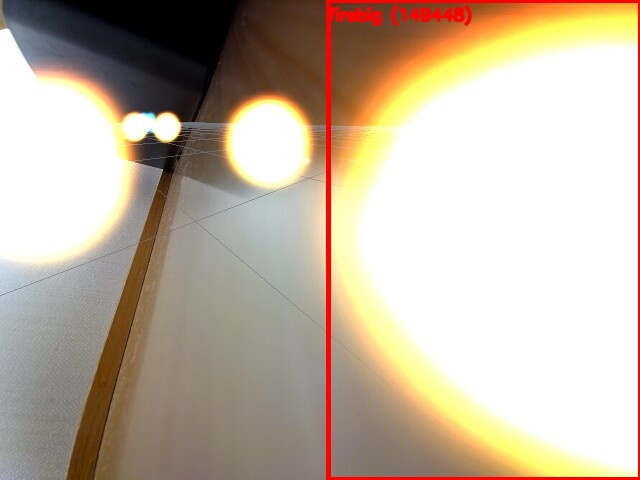firebig: (328, 0, 640, 479)
